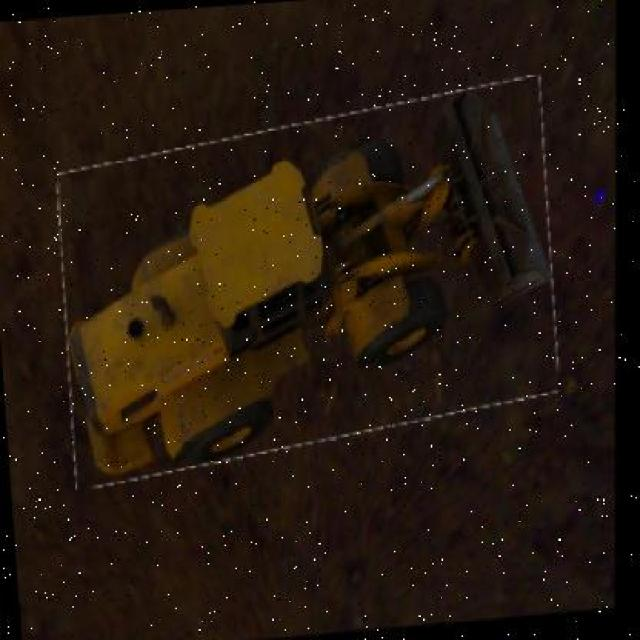buldozerpayloadergrader: (58, 83, 564, 471)
